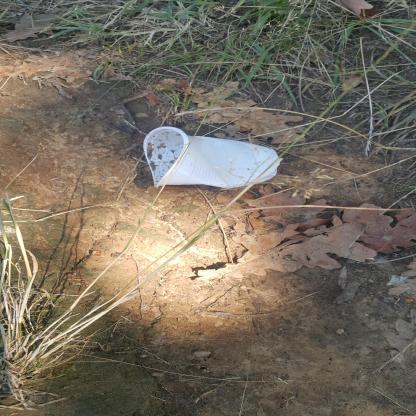plastik: (226, 140, 290, 281)
